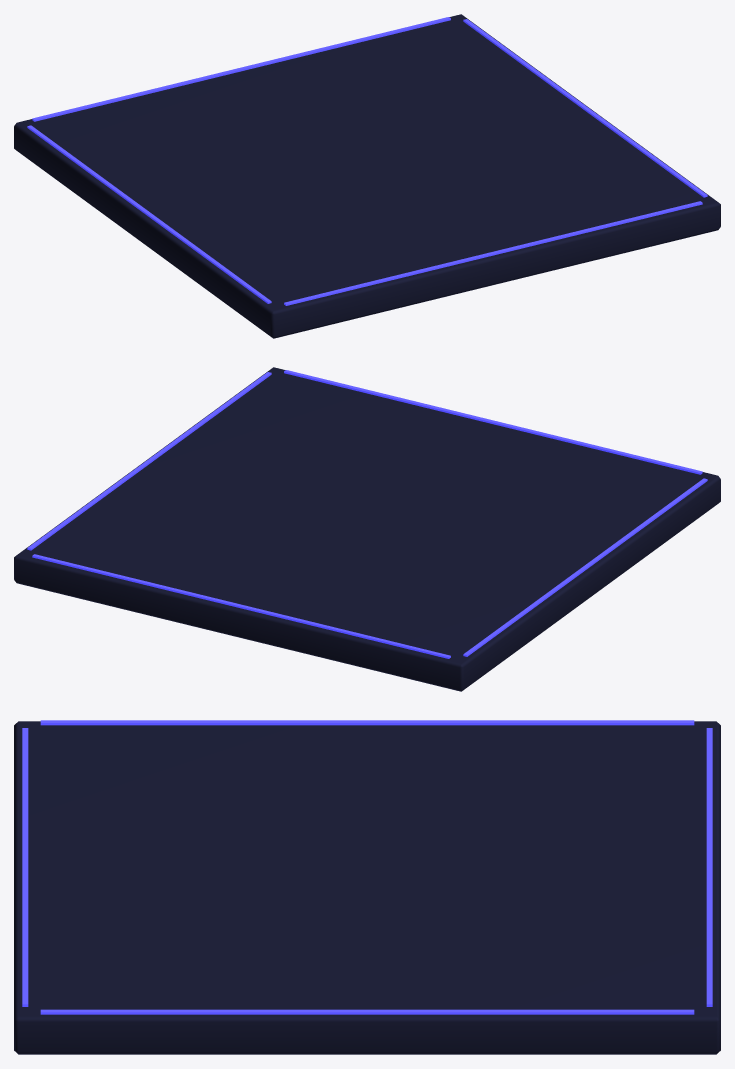
The model's file is NT_Floor_Alternate.fbx.
3 views of the same model, one above another, from view 1: azimuth 30°, elevation 25°; view 2: azimuth 150°, elevation 25°; view 3: azimuth 270°, elevation 25° (orthographic). The views are drawn at different scales.
Visible parts, largest first — view 1: NT_Floor_Alternate__FloorMesh; view 2: NT_Floor_Alternate__FloorMesh; view 3: NT_Floor_Alternate__FloorMesh.
Boxes of the visible parts, x1=… form: NT_Floor_Alternate__FloorMesh: x1=14, y1=14, x2=720, y2=338; NT_Floor_Alternate__FloorMesh: x1=14, y1=367, x2=720, y2=691; NT_Floor_Alternate__FloorMesh: x1=14, y1=720, x2=720, y2=1054.
Bounding box in the file's own units: 2 × 0.1275 × 2.
